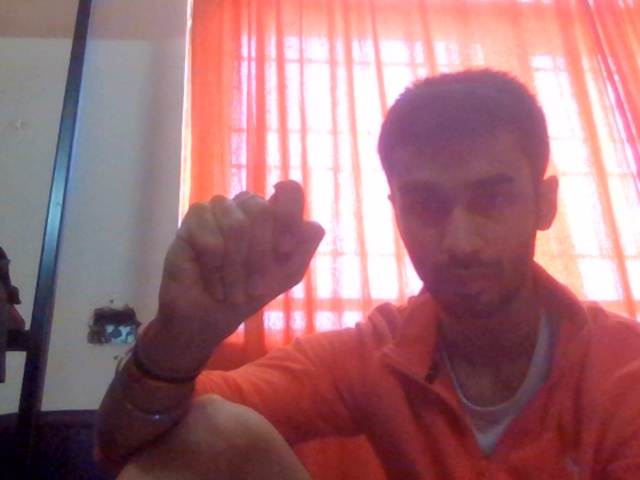T: (139, 163, 377, 392)
